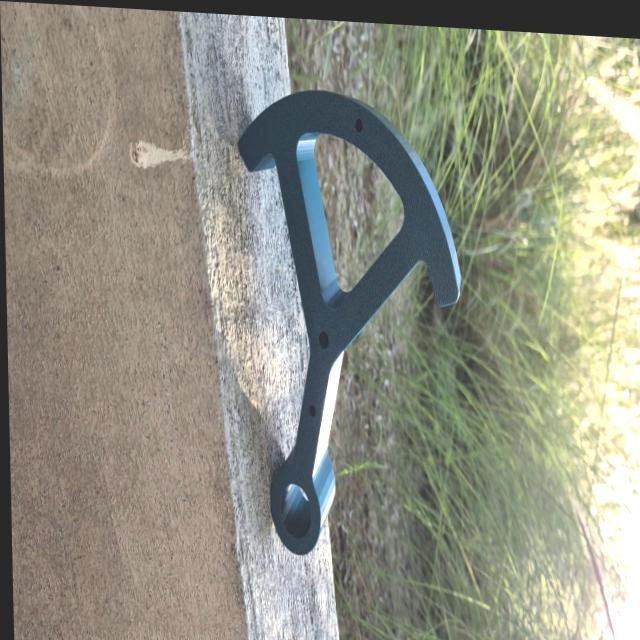haptic: (235, 79, 470, 569)
